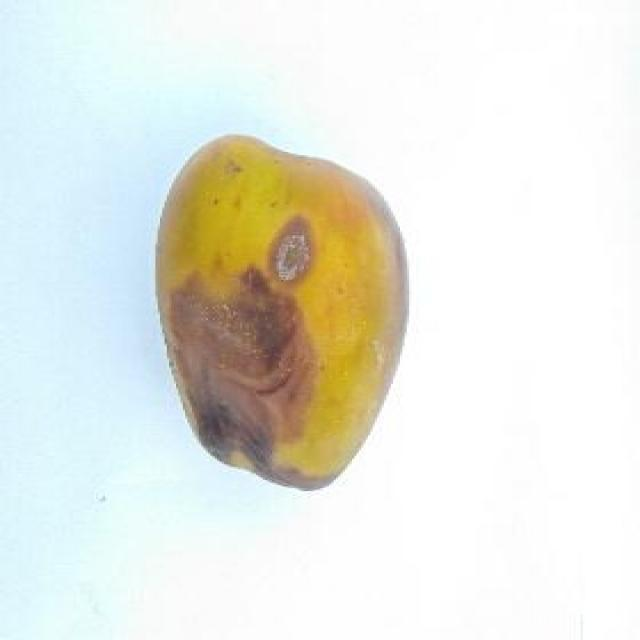Rotten: (143, 146, 434, 487)
